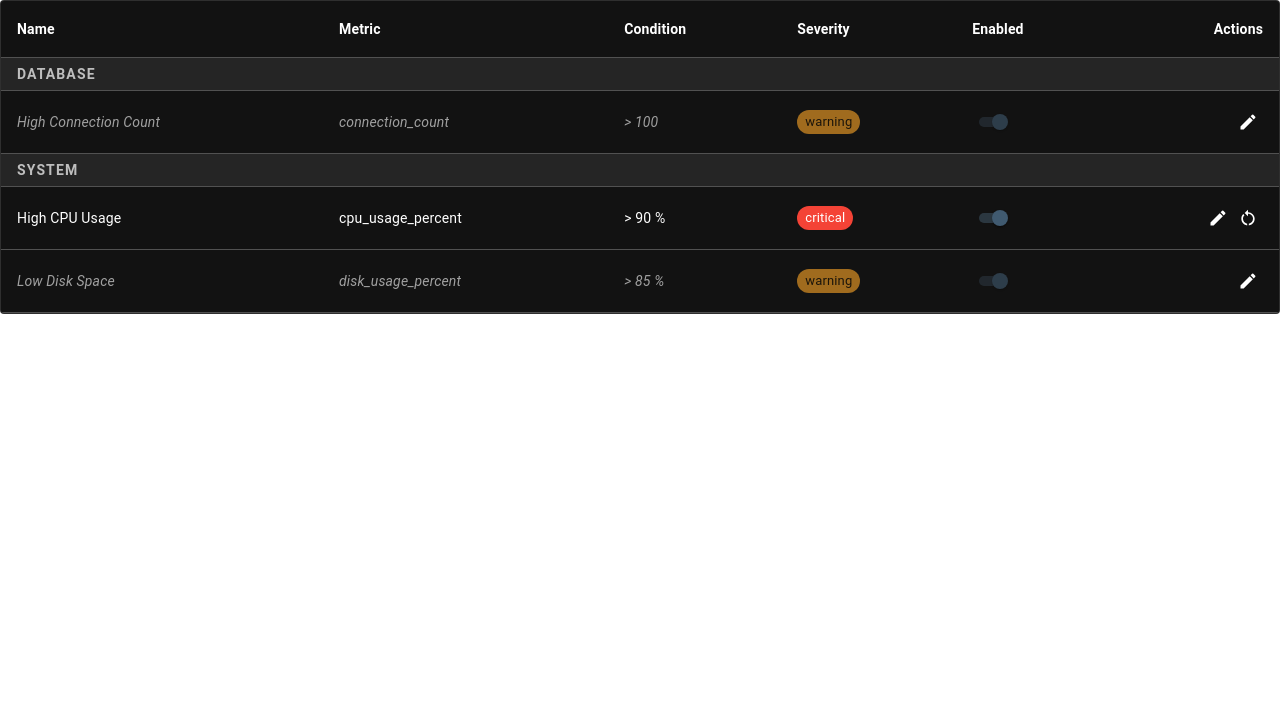
Test case: AlertOverridesPanel › edit dialog Cancel closes the dialog
Check: the text "High CPU Usage" is shown, box [1,186,323,250]
Click the button named "edit override" in the row of "High CPU Usage" at (1218, 218), box [1203,203,1233,233]
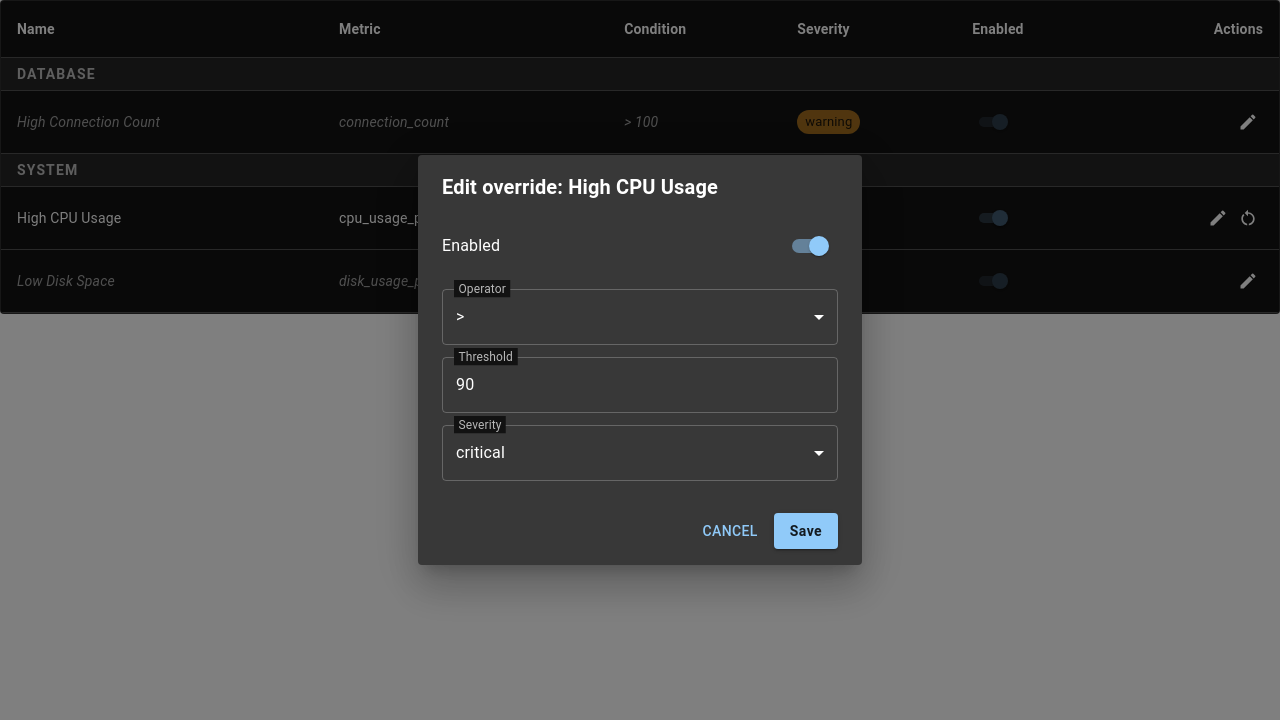
Check: the heading "Edit override: High CPU Usage" is shown, box [442,175,718,199]
Click the button "Cancel" at (730, 531), box [694,513,766,549]
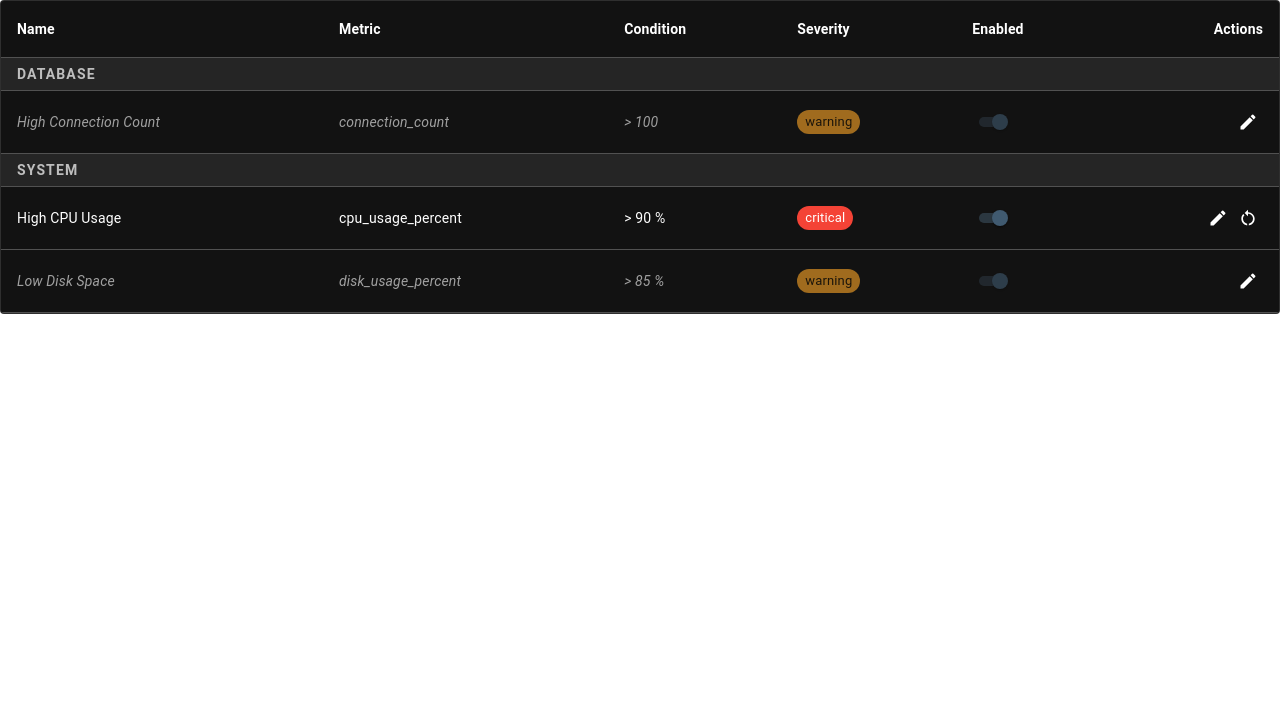
Check: the heading "Edit override: High CPU Usage" is gone
